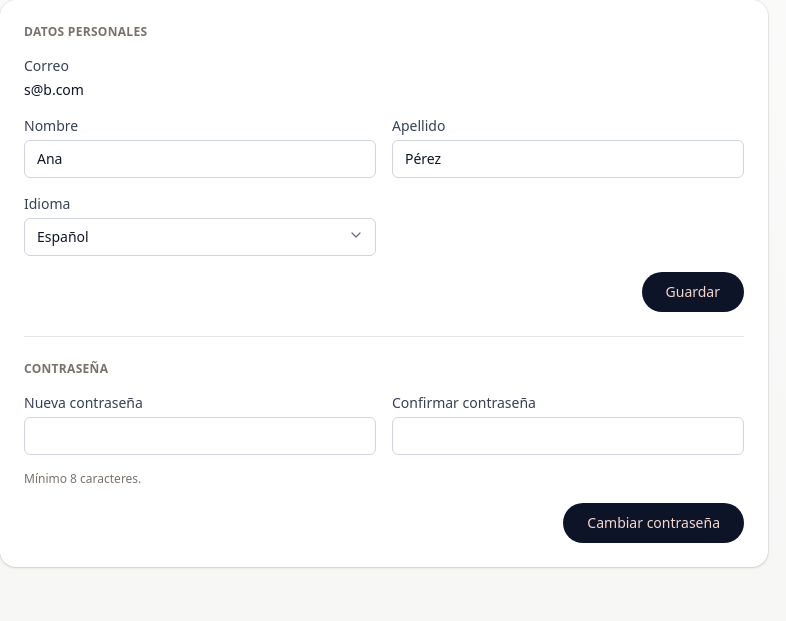
Test: ProfileSection › does not touch the language when it is left alone
Expected: the field labelled "Nombre" is shown, x1=24 y1=140 x2=376 y2=178
Click the button "Guardar" at (693, 292), box x1=642 y1=272 x2=744 y2=312
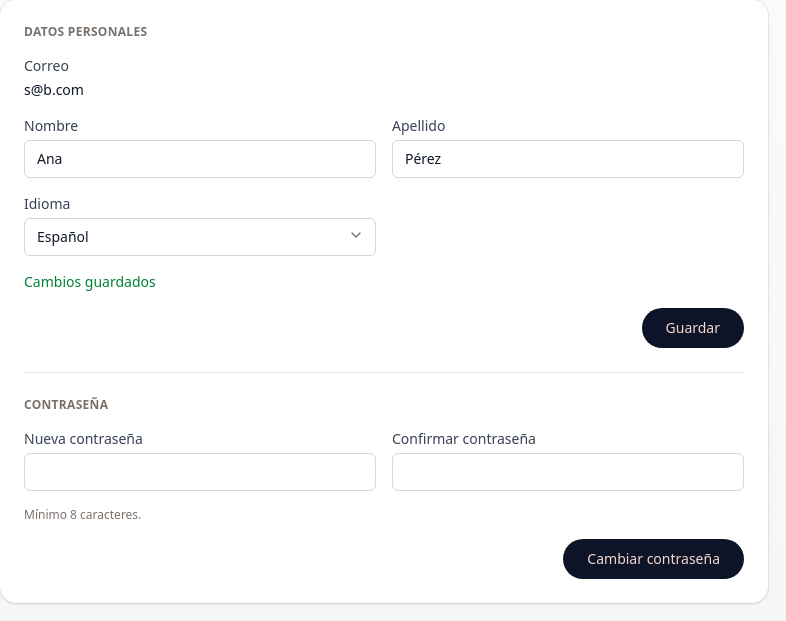
Expected: the message "Cambios guardados" is shown, x1=24 y1=272 x2=156 y2=291
